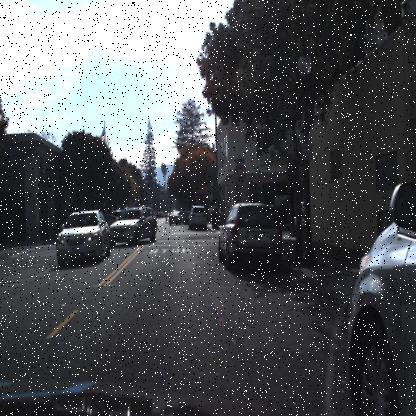car: (346, 177, 415, 416), (214, 198, 288, 274), (54, 208, 110, 268), (108, 204, 158, 249), (186, 203, 210, 234)
